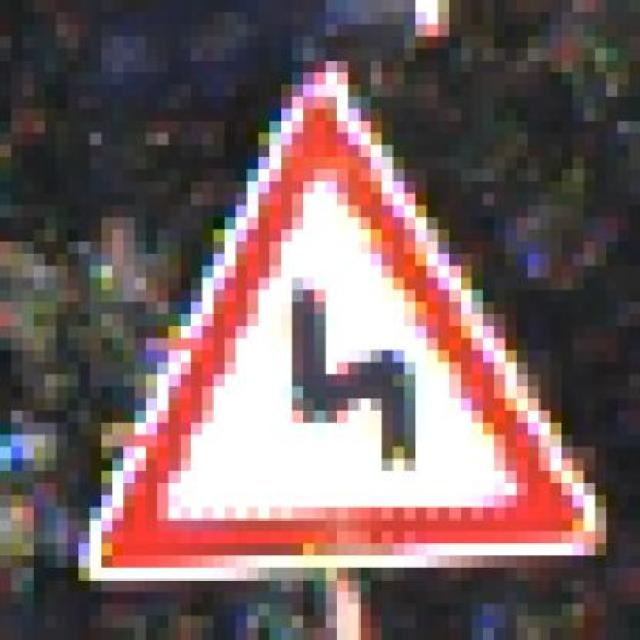Left Zig Zag Traffic: (76, 51, 616, 584)
